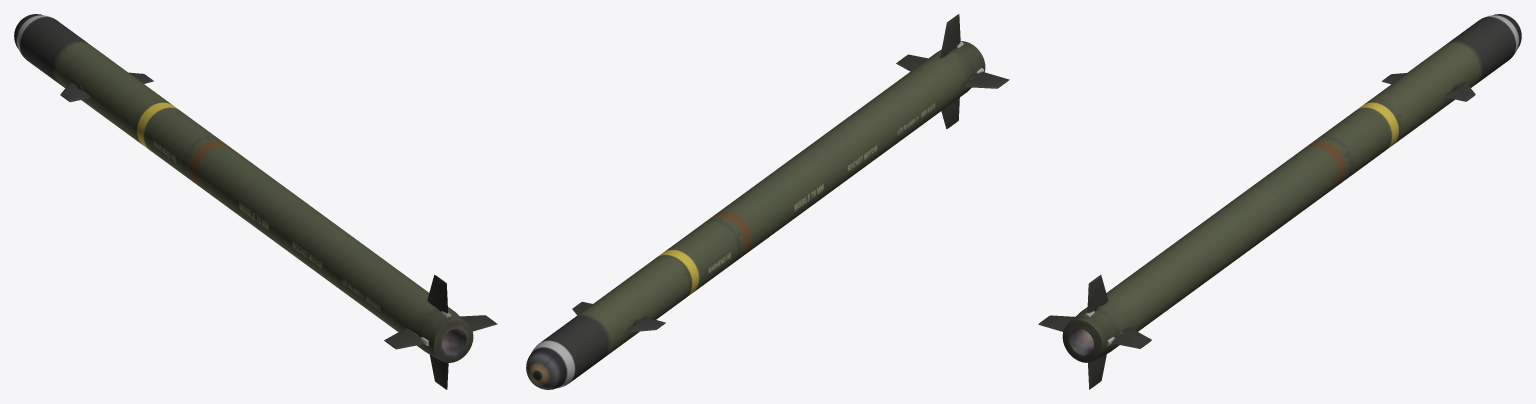
File: msl_redeye.glb
The picture shows the model from 3 angles, left to right: view 1: azimuth 30°, elevation 25°; view 2: azimuth 150°, elevation 25°; view 3: azimuth 330°, elevation 25°; orthographic projection.
Parts seen in each view (by area): view 1: RDE_msl, RDE_mfins; view 2: RDE_msl, RDE_mfins; view 3: RDE_msl, RDE_mfins.
Part boxes in pixels (<box>): RDE_msl: <box>14,14,473,362</box>; RDE_mfins: <box>60,72,497,389</box>; RDE_msl: <box>526,41,985,389</box>; RDE_mfins: <box>572,14,1009,332</box>; RDE_msl: <box>1062,14,1521,362</box>; RDE_mfins: <box>1038,73,1475,389</box>.
Bounding box in the file's own units: 0.164 × 0.164 × 1.2.
1 material, 1 textured.
